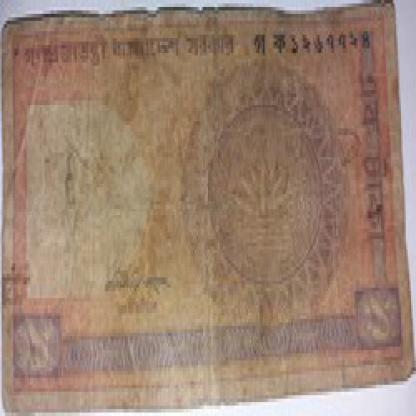One Taka: (354, 66, 393, 253), (13, 315, 60, 378), (356, 291, 403, 347)
